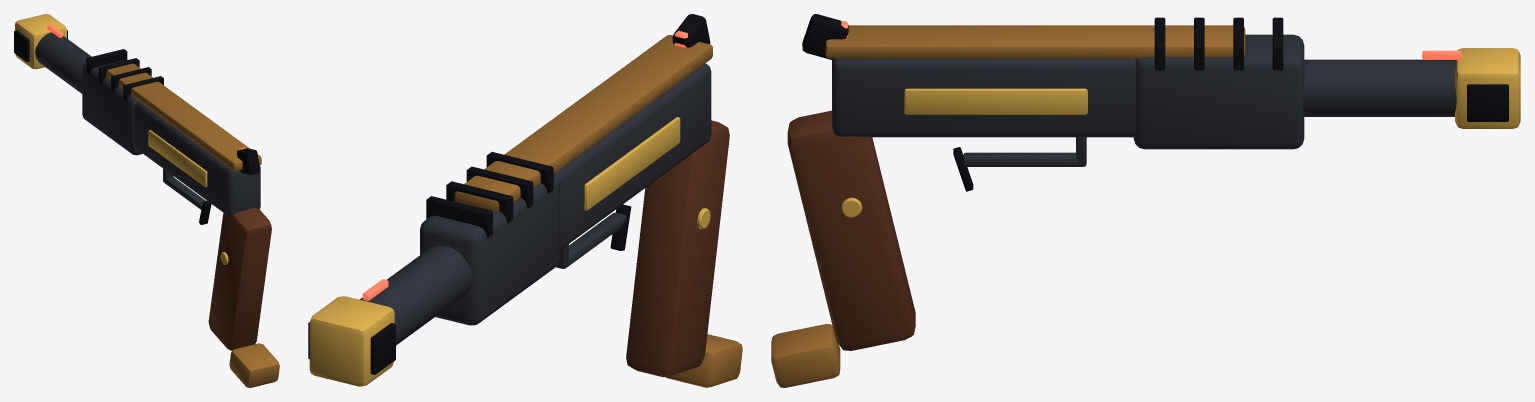
The model's file is lastword.glb.
3 views of the same model, side by side, from view 1: azimuth 30°, elevation 25°; view 2: azimuth 150°, elevation 25°; view 3: azimuth 270°, elevation 25° (orthographic). The views are drawn at different scales.
Parts seen in each view (by area): view 1: steel, walnut, bronze, dark, gold; view 2: steel, walnut, bronze, gold, dark, red; view 3: steel, walnut, bronze, gold, dark.
Boxes of the visible parts, box(x1,y1,x2,y2) form: steel: box(35, 32, 260, 216); walnut: box(208, 208, 271, 350); bronze: box(106, 63, 279, 387); dark: box(14, 30, 259, 224); gold: box(15, 14, 228, 264); steel: box(360, 63, 711, 345); walnut: box(626, 120, 729, 377); bronze: box(454, 35, 742, 387); gold: box(309, 117, 710, 386); dark: box(308, 14, 710, 374); red: box(362, 31, 687, 300); steel: box(832, 34, 1456, 166); walnut: box(787, 110, 915, 350); bronze: box(771, 25, 1245, 387); gold: box(841, 48, 1520, 217); dark: box(802, 14, 1508, 191).
Bounding box in the file's own units: 0.058 × 0.3044 × 0.5714.
